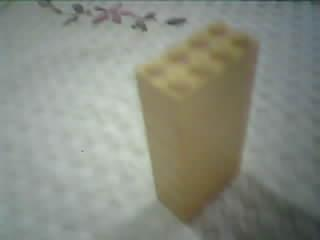lego: (134, 20, 259, 224)
